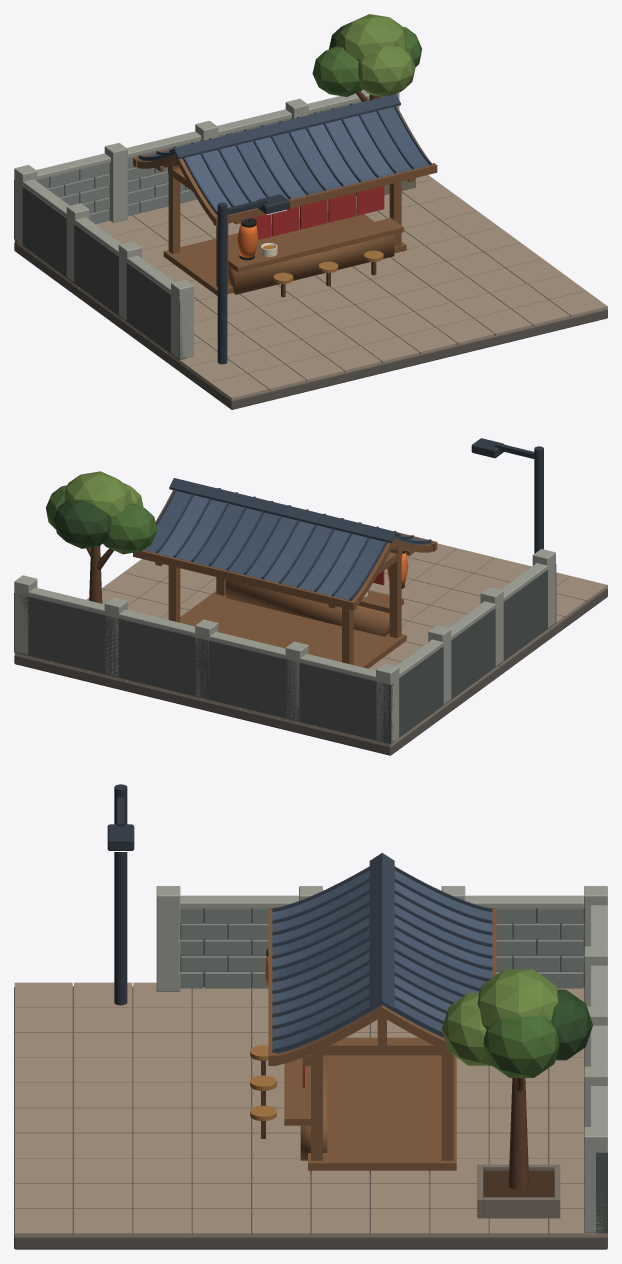
File: RamenGtt.glb
The picture shows the model from 3 angles, top to bottom: view 1: azimuth 30°, elevation 25°; view 2: azimuth 150°, elevation 25°; view 3: azimuth 270°, elevation 25°; orthographic projection. The views are drawn at different scales.
Visible parts, largest first — view 1: Tile, Wall_left, Plane, Wall_Left_Post, Cube, Cube.008, Wall_Brick, Wall_Post, Wall_cap, Roof_Ridge_Cap, Cube.007, Leaves_Front (+26 smaller); view 2: Wall_Back, Tile, Wall_left, Cube, Plane, Wall_Post, Wall_cap, Cube.008, Roof_Ridge_Cap, Wall_Left_Post, Leaves_Back, Roof_Eave_Fascia_Back (+24 smaller); view 3: Tile, Cube, Plane, Wall_Brick_Left, Wall_Brick_Left_Offset, Wall_Post, Roof_Ridge_Cap, Leaves_Right, Leaves_Top, Wall_Left_Post, Wall_left_Cap, Wall_cap (+36 smaller).
Boxes of the visible parts, x1,y1,x2,y2 form: Tile: [14, 175, 607, 400]; Wall_left: [22, 186, 186, 359]; Plane: [14, 242, 607, 409]; Wall_Left_Post: [66, 203, 193, 358]; Cube: [163, 208, 406, 295]; Cube.008: [228, 234, 394, 294]; Wall_Brick: [37, 99, 369, 223]; Wall_Post: [14, 93, 399, 244]; Wall_cap: [36, 90, 369, 180]; Roof_Ridge_Cap: [169, 94, 400, 159]; Cube.007: [228, 218, 403, 272]; Leaves_Front: [358, 46, 415, 96]; Wall_Back: [14, 593, 395, 743]; Tile: [14, 543, 607, 746]; Wall_left: [399, 564, 556, 737]; Cube: [180, 591, 406, 668]; Plane: [14, 588, 607, 755]; Wall_Post: [14, 575, 399, 742]; Wall_cap: [28, 587, 392, 683]; Cube.008: [226, 579, 389, 636]; Roof_Ridge_Cap: [169, 478, 400, 543]; Wall_Left_Post: [428, 549, 555, 704]; Leaves_Back: [53, 498, 111, 548]; Roof_Eave_Fascia_Back: [133, 550, 356, 610]; Tile: [14, 982, 607, 1236]; Cube: [308, 1037, 456, 1173]; Plane: [14, 986, 607, 1249]; Wall_Brick_Left: [180, 908, 583, 988]; Wall_Brick_Left_Offset: [181, 923, 584, 971]; Wall_Post: [584, 886, 607, 1232]; Roof_Ridge_Cap: [369, 853, 394, 1011]; Leaves_Right: [483, 1015, 559, 1077]; Leaves_Top: [477, 969, 558, 1029]; Wall_Left_Post: [156, 886, 465, 991]; Wall_left_Cap: [180, 895, 584, 908]; Wall_cap: [590, 905, 607, 1151].
Size of the model in its own units: 10 by 4.52 by 10.
